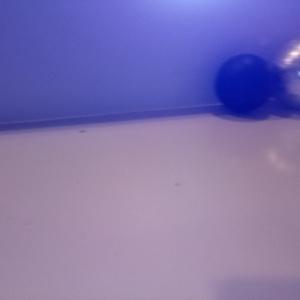alive_ball: (224, 60, 300, 201)
